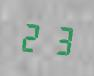three: (46, 20, 72, 58)
two: (19, 17, 45, 55)
